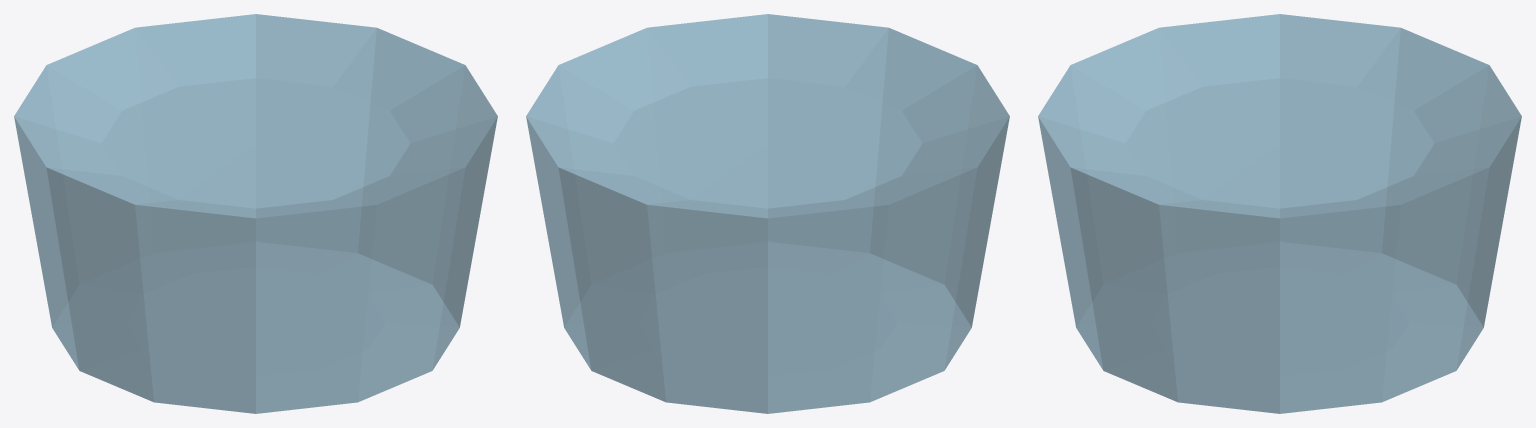
Rendered from water.fbx.
3 renders of one model, left to right at view 1: azimuth 30°, elevation 25°; view 2: azimuth 150°, elevation 25°; view 3: azimuth 270°, elevation 25°, orthographic.
Parts seen in each view (by area): view 1: beacker_water2; view 2: beacker_water2; view 3: beacker_water2.
Part boxes in pixels (<box>): beacker_water2: <box>14,14,497,413</box>; beacker_water2: <box>526,14,1009,413</box>; beacker_water2: <box>1038,14,1521,413</box>.
Size of the model in its own units: 26.02 by 12.56 by 26.02.
